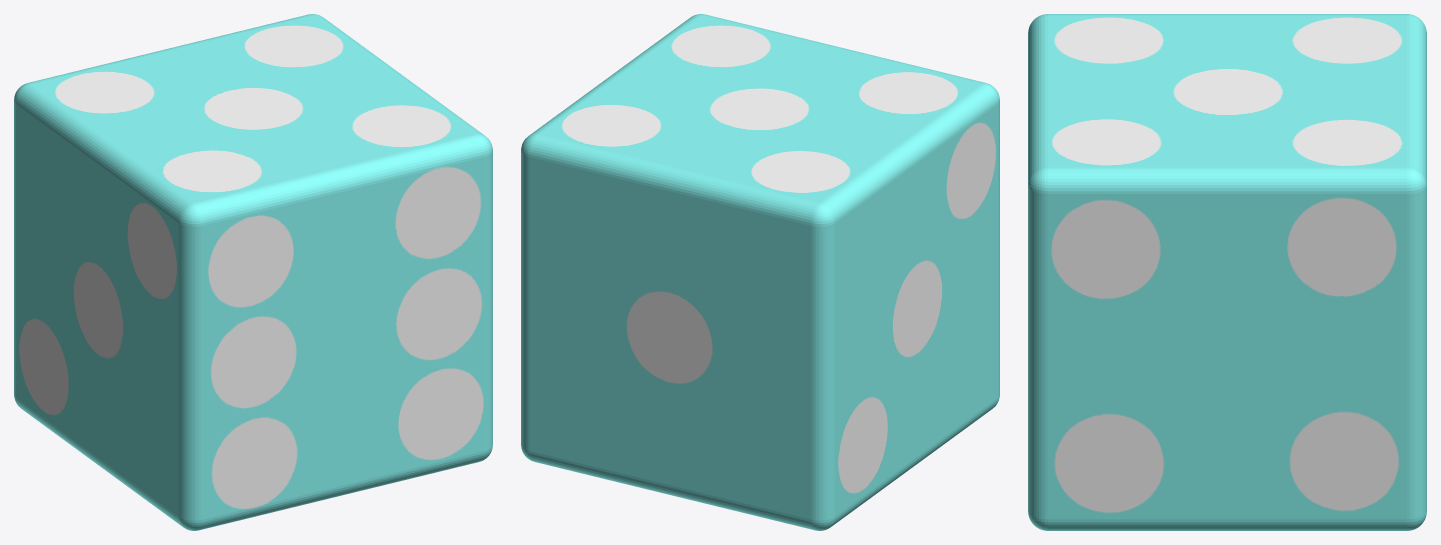
Rendered from Dice.obj.
3 views of the same model, side by side, from view 1: azimuth 30°, elevation 25°; view 2: azimuth 150°, elevation 25°; view 3: azimuth 270°, elevation 25° (orthographic). The views are drawn at different scales.
Visible parts, largest first — view 1: Cube; view 2: Cube; view 3: Cube.
Part boxes in pixels (left/top/right/bottom): Cube: left=14, top=14, right=492, bottom=530; Cube: left=521, top=14, right=999, bottom=530; Cube: left=1028, top=14, right=1426, bottom=530.
Bounding box in the file's own units: 1 × 1 × 1.
1 material, 1 textured.
